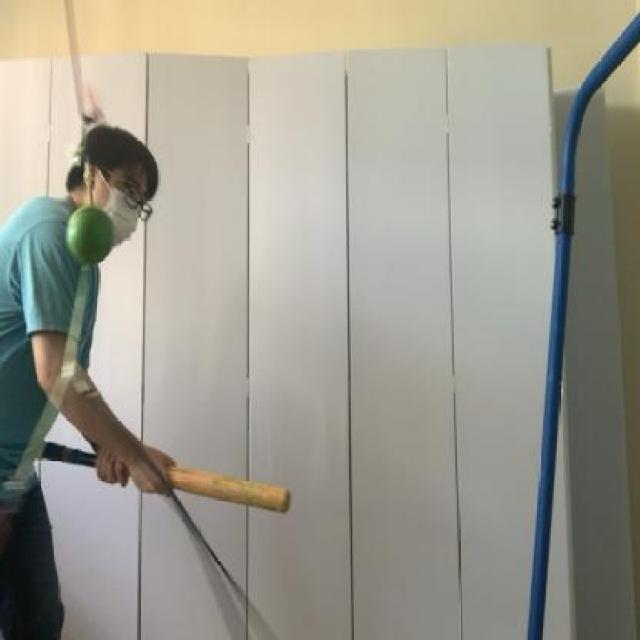baseball: (64, 198, 119, 278)
